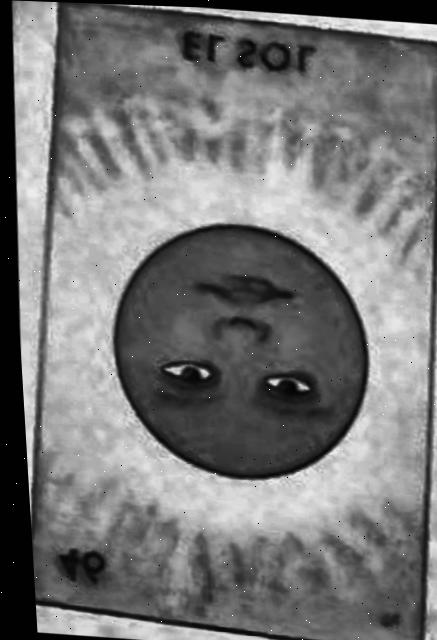El Sol: (25, 3, 437, 640)
